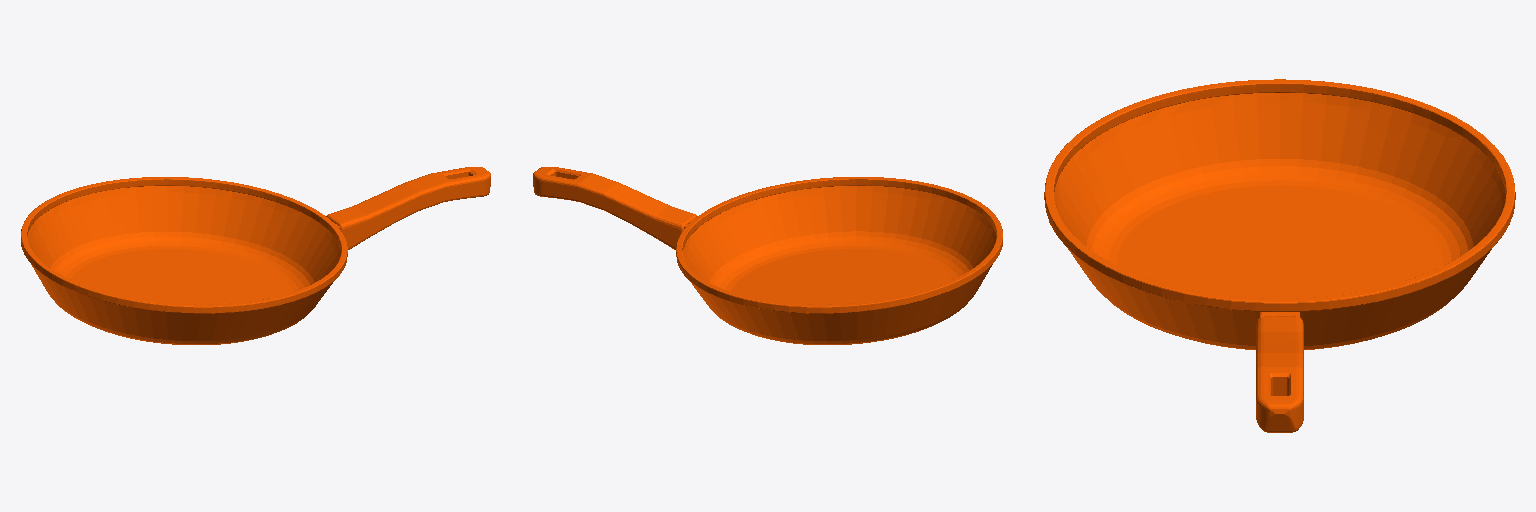
URDF robot description (fryingpan):
<?xml version="1.0" ?>
<robot name="fryingpan">
   <material name="obj_color">
      <color rgba="1.0 0.423529411765 0.0392156862745 1.0"/>
   </material>
   <link name="top">
      <inertial>
         <origin rpy="0.0001567601653333529 0.0004247139439735872 0.0005606476874613716" xyz="-0.01884000274716763 -1.620828438607022e-06 -0.003485378990093002"/>
         <mass value="0.1165946250296494"/>
         <inertia ixx="0.0001574521392085646" ixy="-2.752496034416286e-08" ixz="-1.6703286642801e-05" iyy="0.0004247139568097644" iyz="4.449364814335309e-08" izz="0.000559955700749983"/>
      </inertial>
      <visual>
         <origin rpy="0 0 0" xyz="0 0 0"/>
         <geometry>
            <mesh filename="top_watertight_tiny.stl" scale="1 1 1"/>
         </geometry>
         <material name="obj_color"/>
      </visual>
      <collision>
         <origin rpy="0 0 0" xyz="0 0 0"/>
         <geometry>
            <mesh filename="top_watertight_tiny.obj" scale="1 1 1"/>
         </geometry>
      </collision>
   </link>
   <link name="bottom">
      <inertial>
         <origin rpy="1.633333333194242e-08 1.633333333194243e-08 1.633333333357667e-08" xyz="0.3464080000000008 0.3464080000000008 0.3464080000000008"/>
         <mass value="0.0009800000000000017"/>
         <inertia ixx="1.633333333248717e-08" ixy="5.447480642029219e-19" ixz="5.447480642029219e-19" iyy="1.633333333248717e-08" iyz="5.447480642029219e-19" izz="1.633333333248717e-08"/>
      </inertial>
      <visual>
         <origin rpy="0 0 0" xyz="0 0 0"/>
         <geometry>
            <mesh filename="bottom_watertight_tiny.stl" scale="1 1 1"/>
         </geometry>
         <material name="obj_color"/>
      </visual>
   </link>
   <joint name="rotation" type="revolute">
      <origin xyz="0 0 0"/>
      <axis xyz="0 0 -1"/>
      <parent link="bottom"/>
      <child link="top"/>
      <dynamics damping="1.0" friction="1.0"/>
      <limit effort="0.1" velocity="0.1" lower="0" upper="0.001"/>
   </joint>
</robot>

--- Render facts (derived) ---
3 views of the same robot in one strip: view 1: azimuth 30°, elevation 25°; view 2: azimuth 150°, elevation 25°; view 3: azimuth 270°, elevation 25° (orthographic).
Model fryingpan with 2 links and 1 joints (1 revolute), rooted at bottom, posed every joint at zero.
Links seen in each view (by area): view 1: top; view 2: top; view 3: top.
Boxes of the visible links, x1=… form: top: x1=21, y1=167, x2=490, y2=344; top: x1=533, y1=167, x2=1002, y2=344; top: x1=1044, y1=79, x2=1515, y2=432.
Size in the robot's own frame: 0.236 by 0.15 by 0.0355 metres.
1 mesh visuals loaded from 2 distinct referenced files (1 binary STL); not drawn: 1 (reference not matched to a file when rendering).
